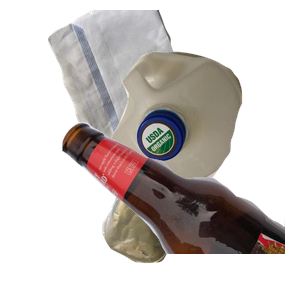glass: (60, 120, 300, 300)
paper: (45, 10, 251, 190)
plastic: (108, 49, 300, 226)
trash: (99, 155, 268, 300)
